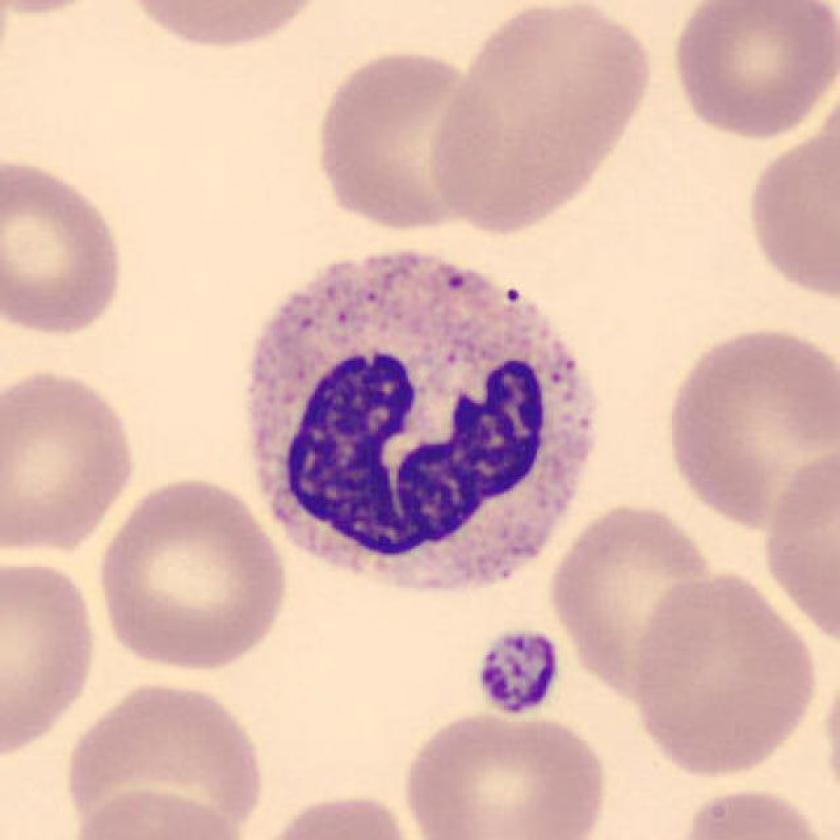neutrophil: (247, 252, 596, 590)
